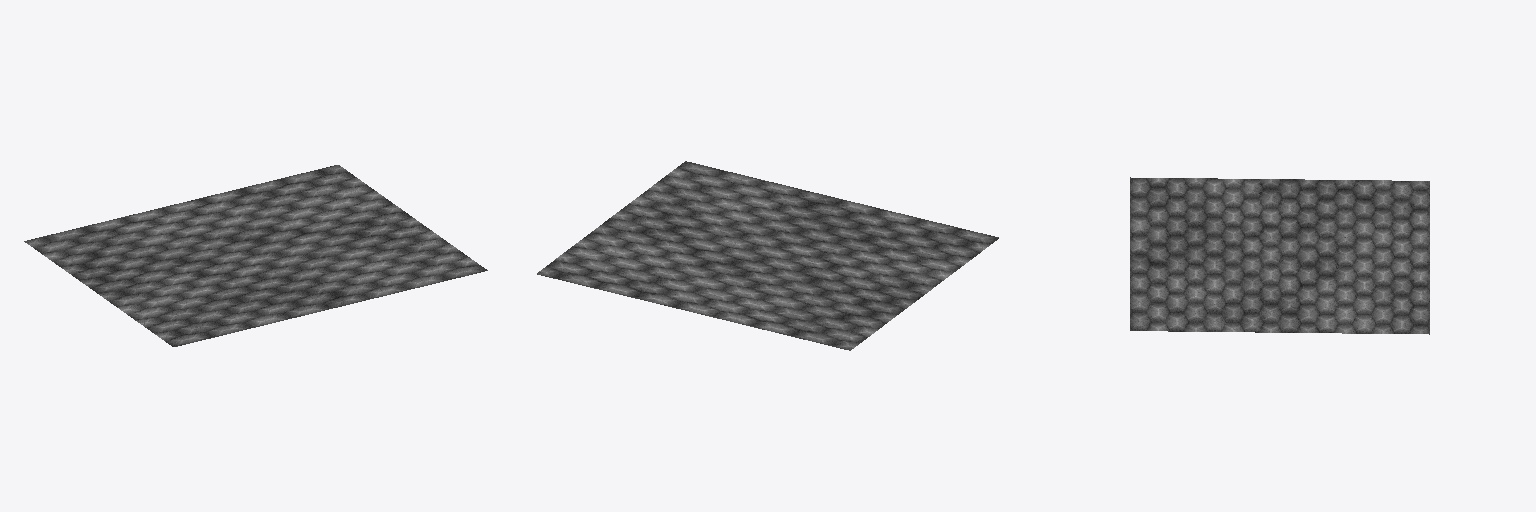
3 views of the same model, side by side, from view 1: azimuth 30°, elevation 25°; view 2: azimuth 150°, elevation 25°; view 3: azimuth 270°, elevation 25° (orthographic).
Visible parts, largest first — view 1: Plane; view 2: Plane; view 3: Plane.
Part boxes in pixels (left/top/right/bottom): Plane: left=24, top=165, right=487, bottom=346; Plane: left=537, top=161, right=998, bottom=350; Plane: left=1130, top=177, right=1429, bottom=334.
Size of the model in its own units: 23.86 by 0.2498 by 19.68.
Materials: 1 (1 with a texture image).